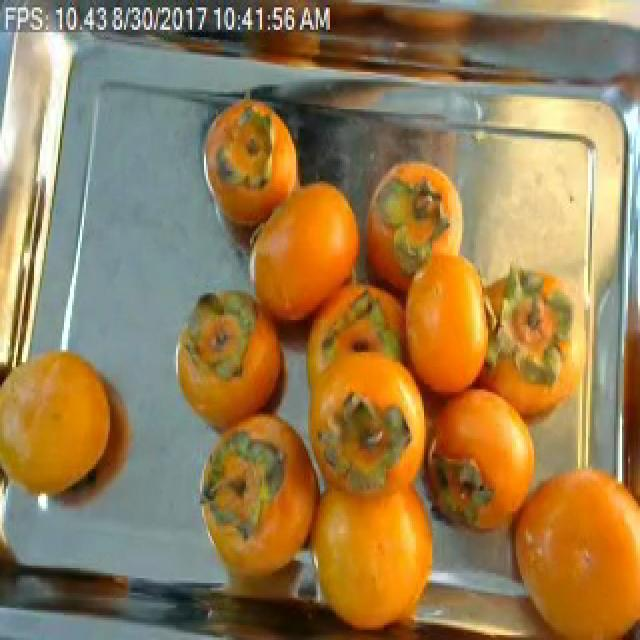Fruit: (448, 109, 600, 315), (0, 335, 134, 516), (166, 273, 302, 451), (236, 162, 370, 332), (190, 97, 308, 230)
